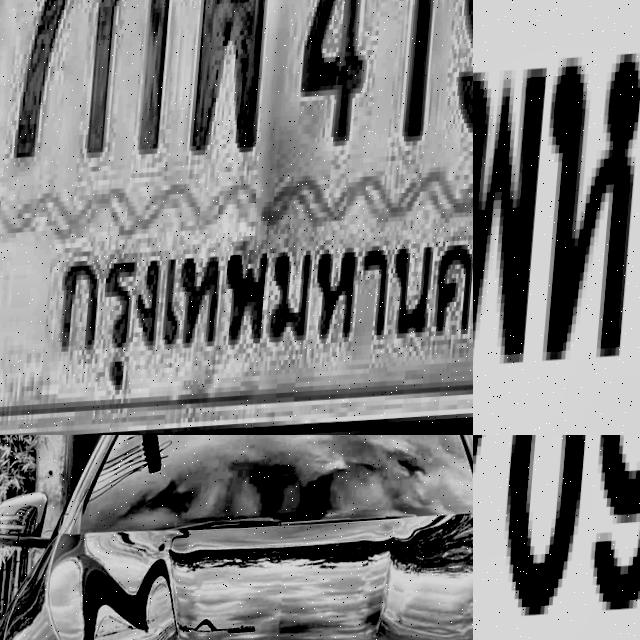license-plate: (0, 0, 473, 435), (473, 0, 640, 435), (473, 435, 640, 640)
